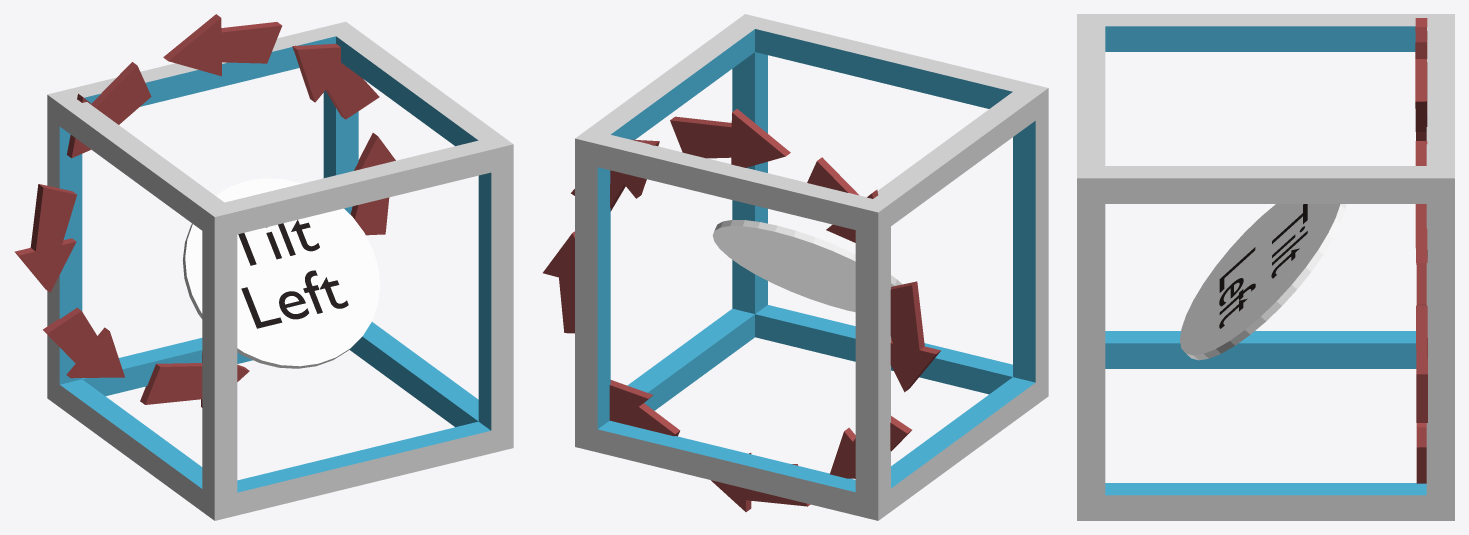
File: TiltLeft.glb
The picture shows the model from 3 angles, left to right: view 1: azimuth 30°, elevation 25°; view 2: azimuth 150°, elevation 25°; view 3: azimuth 270°, elevation 25°; orthographic projection. The views are drawn at different scales.
Parts seen in each view (by area): view 1: Cube, Cylinder, Cylinder.001, Text; view 2: Cube, Cylinder, Cylinder.001; view 3: Cube, Cylinder.001, Cylinder, Text.
Boxes of the visible parts, x1,y1,x2,y2 form: Cube: [47, 21, 513, 520]; Cylinder: [14, 14, 395, 407]; Cylinder.001: [182, 178, 379, 368]; Text: [238, 220, 348, 328]; Cube: [575, 14, 1048, 520]; Cylinder: [543, 109, 940, 511]; Cylinder.001: [712, 220, 902, 312]; Cube: [1077, 14, 1454, 520]; Cylinder.001: [1180, 204, 1346, 360]; Cylinder: [1415, 18, 1427, 483]; Text: [1219, 204, 1307, 328].
Bounding box in the file's own units: 2.67 × 2.57 × 2.
